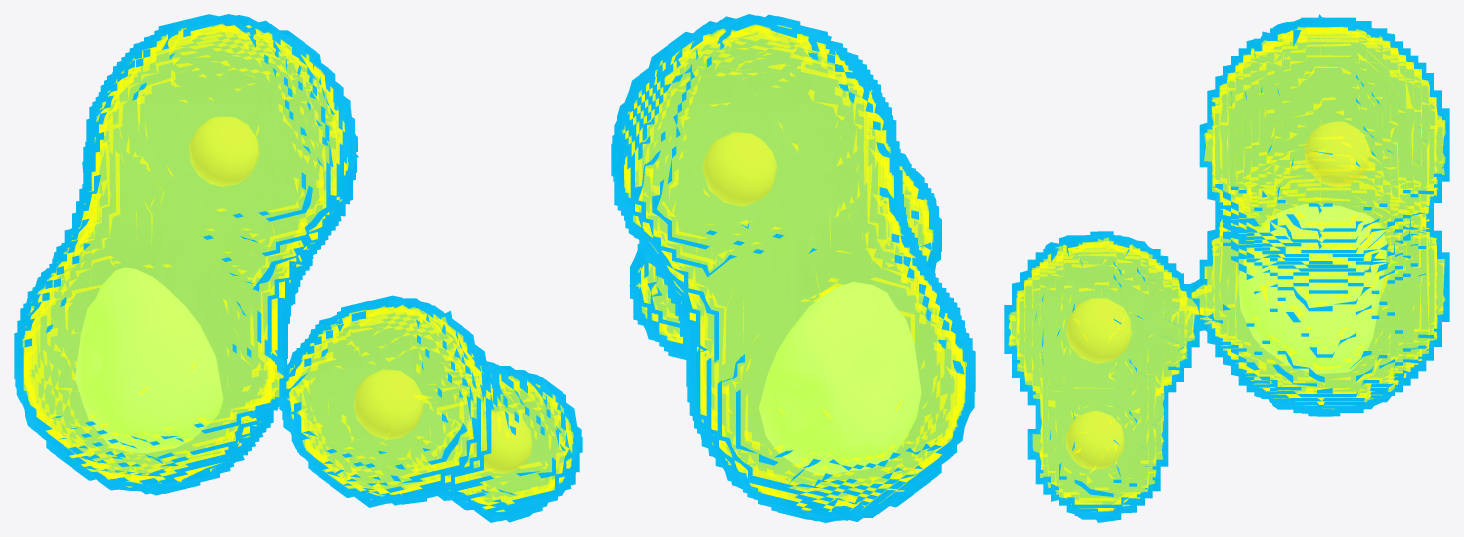
The model's file is fragmentation.glb.
3 views of the same model, side by side, from view 1: azimuth 30°, elevation 25°; view 2: azimuth 150°, elevation 25°; view 3: azimuth 270°, elevation 25° (orthographic). The views are drawn at different scales.
Visible parts, largest first — view 1: fragmentation.001; view 2: fragmentation.001; view 3: fragmentation.001.
Boxes of the visible parts, bbox=[...] form: fragmentation.001: bbox=[14, 14, 582, 522]; fragmentation.001: bbox=[611, 14, 975, 522]; fragmentation.001: bbox=[1004, 14, 1449, 522].
Size of the model in its own units: 3.07 by 3.07 by 3.07.
